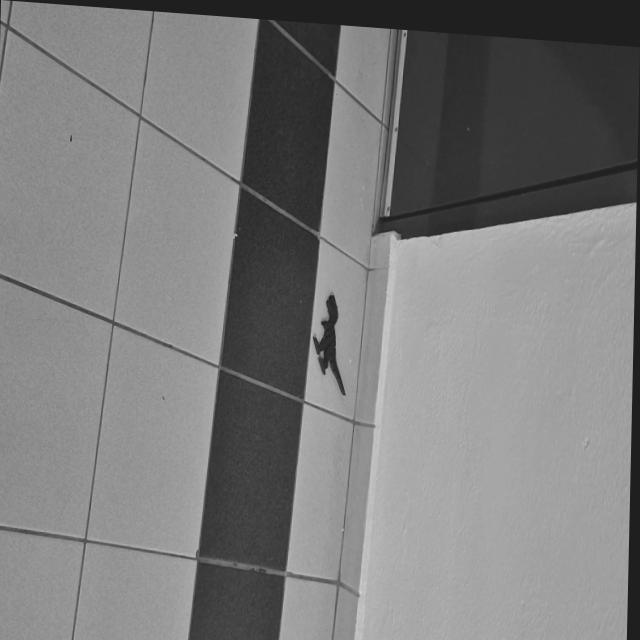dino: (310, 294, 348, 396)
